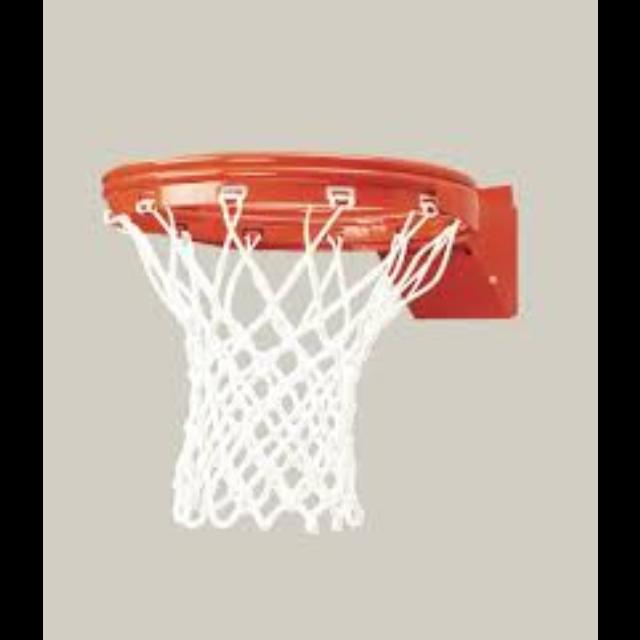rim: (100, 151, 476, 531)
